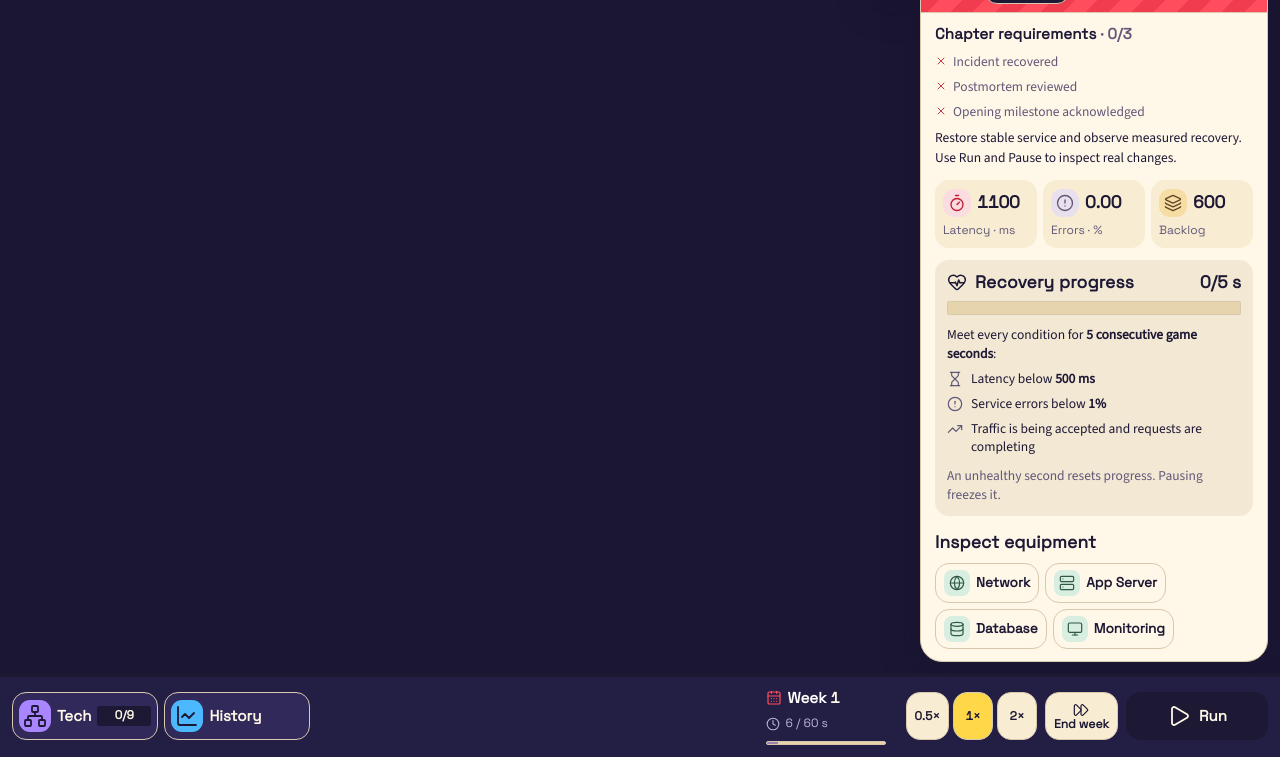
disables unaffordable upgrades and never lights an invalid Confirm
(page scrolled)
Click the button "Database" at (991, 629), box [935,609,1047,649]
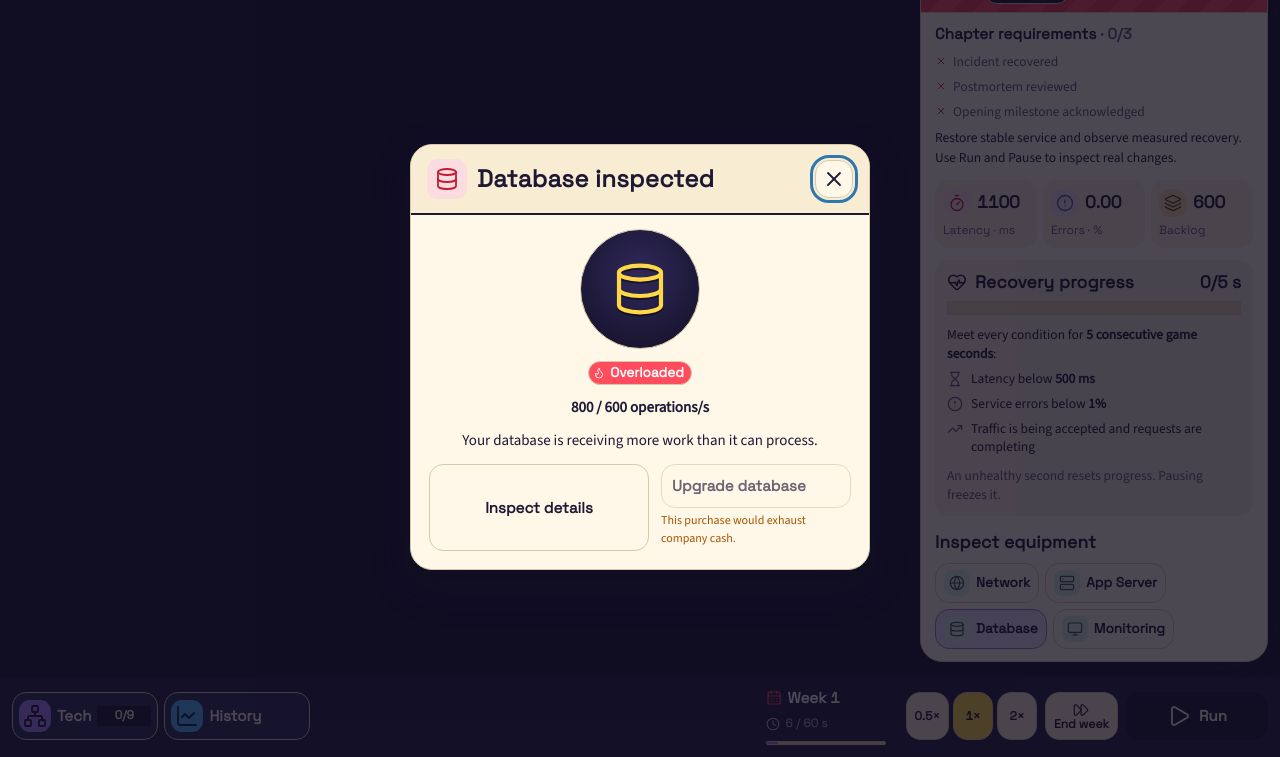
Expected: the button "Upgrade database" is disabled, [661,464,851,508]
